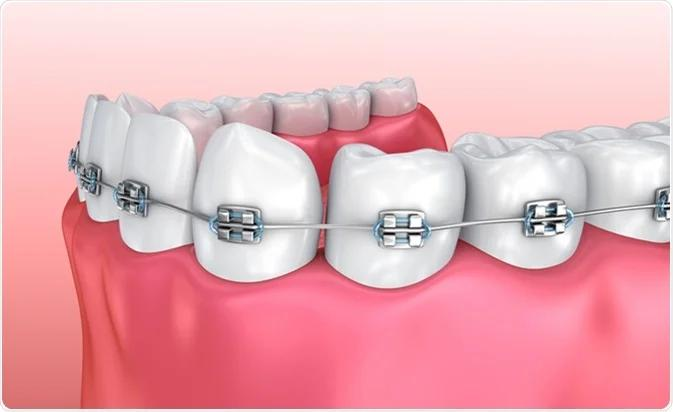Braces: (66, 137, 673, 250)
